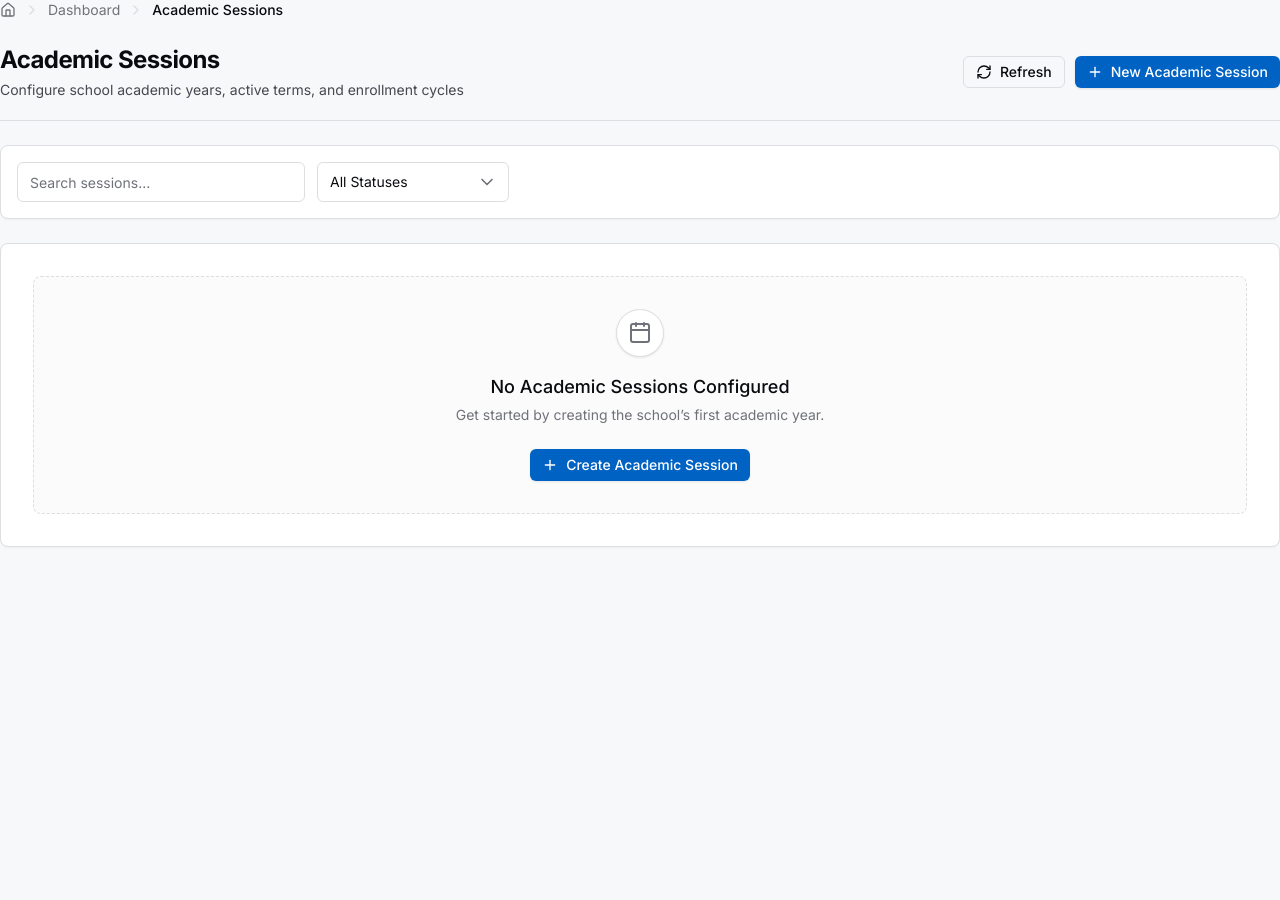
AcademicSessionsPage › should open create modal on button click
Click the button "Create Academic Session".
click(640, 465)  # box 530,449 -> 750,481
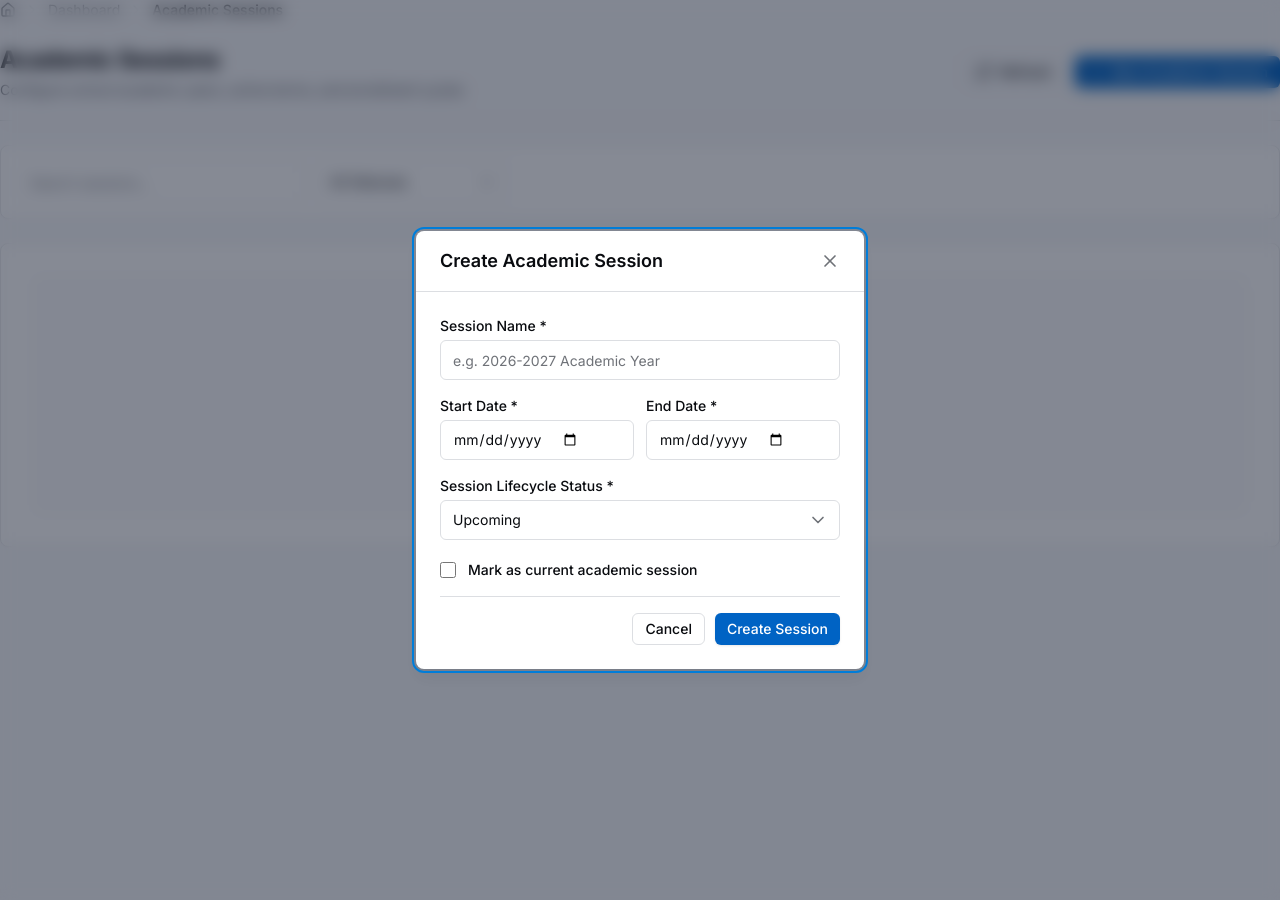
Expected: the text "Session Lifecycle Status *" is shown, 440,477 -> 614,494
